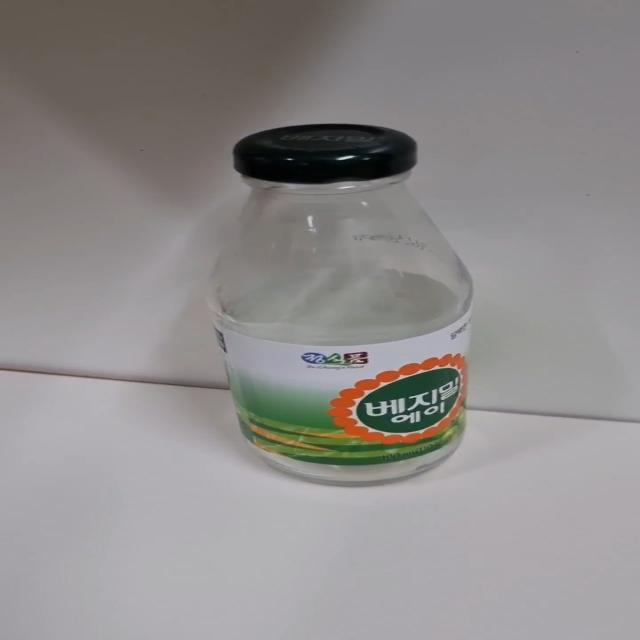Glass: (208, 116, 476, 488)
